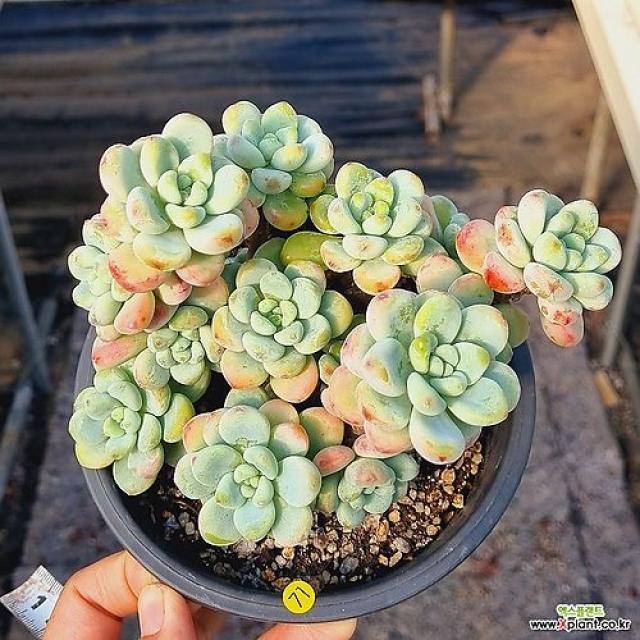LumiRose: (69, 114, 249, 334), (341, 275, 529, 465), (69, 305, 211, 495), (455, 189, 621, 346), (211, 238, 354, 403), (174, 400, 322, 546), (310, 162, 469, 294), (216, 101, 334, 231), (308, 438, 419, 527), (301, 408, 344, 442)
